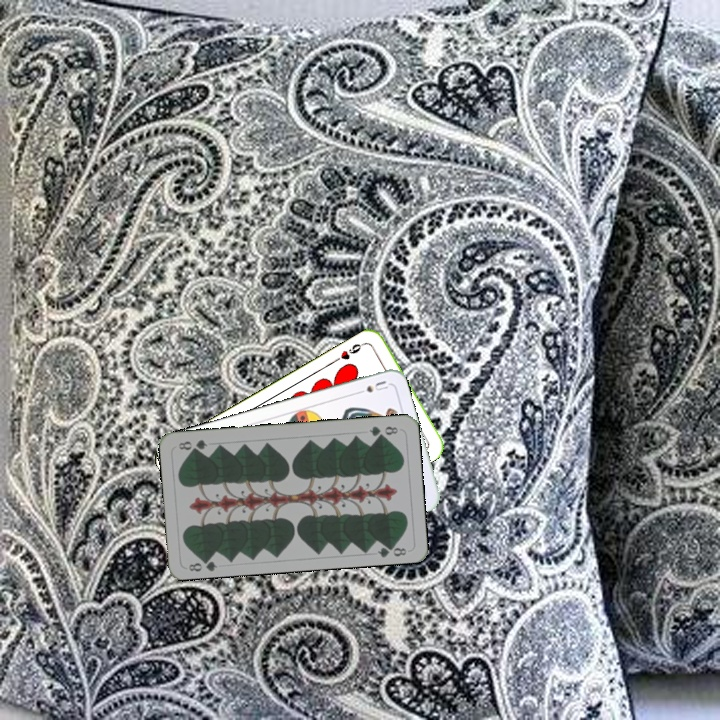G8: (185, 553, 220, 574), (365, 422, 401, 440)
H9: (331, 339, 368, 364)
SU: (351, 376, 391, 398)
